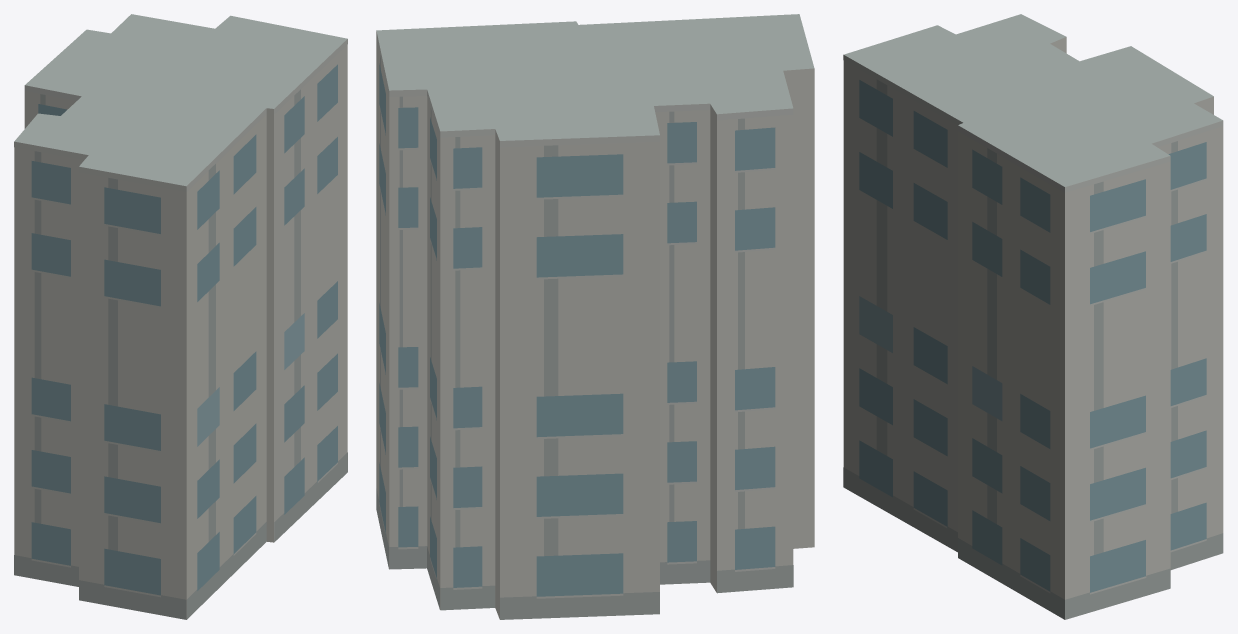
Rendered from survey-upis-32806140.glb.
3 renders of one model, left to right at view 1: azimuth 30°, elevation 25°; view 2: azimuth 150°, elevation 25°; view 3: azimuth 270°, elevation 25°, orthographic. The views are drawn at different scales.
Parts seen in each view (by area): view 1: survey-upis-32806140.tmp; view 2: survey-upis-32806140.tmp; view 3: survey-upis-32806140.tmp.
Part boxes in pixels (x1=…): survey-upis-32806140.tmp: x1=14, y1=14, x2=347, y2=619; survey-upis-32806140.tmp: x1=376, y1=14, x2=814, y2=619; survey-upis-32806140.tmp: x1=843, y1=14, x2=1223, y2=619.
Size of the model in its own units: 15.71 by 18.3 by 14.57.
